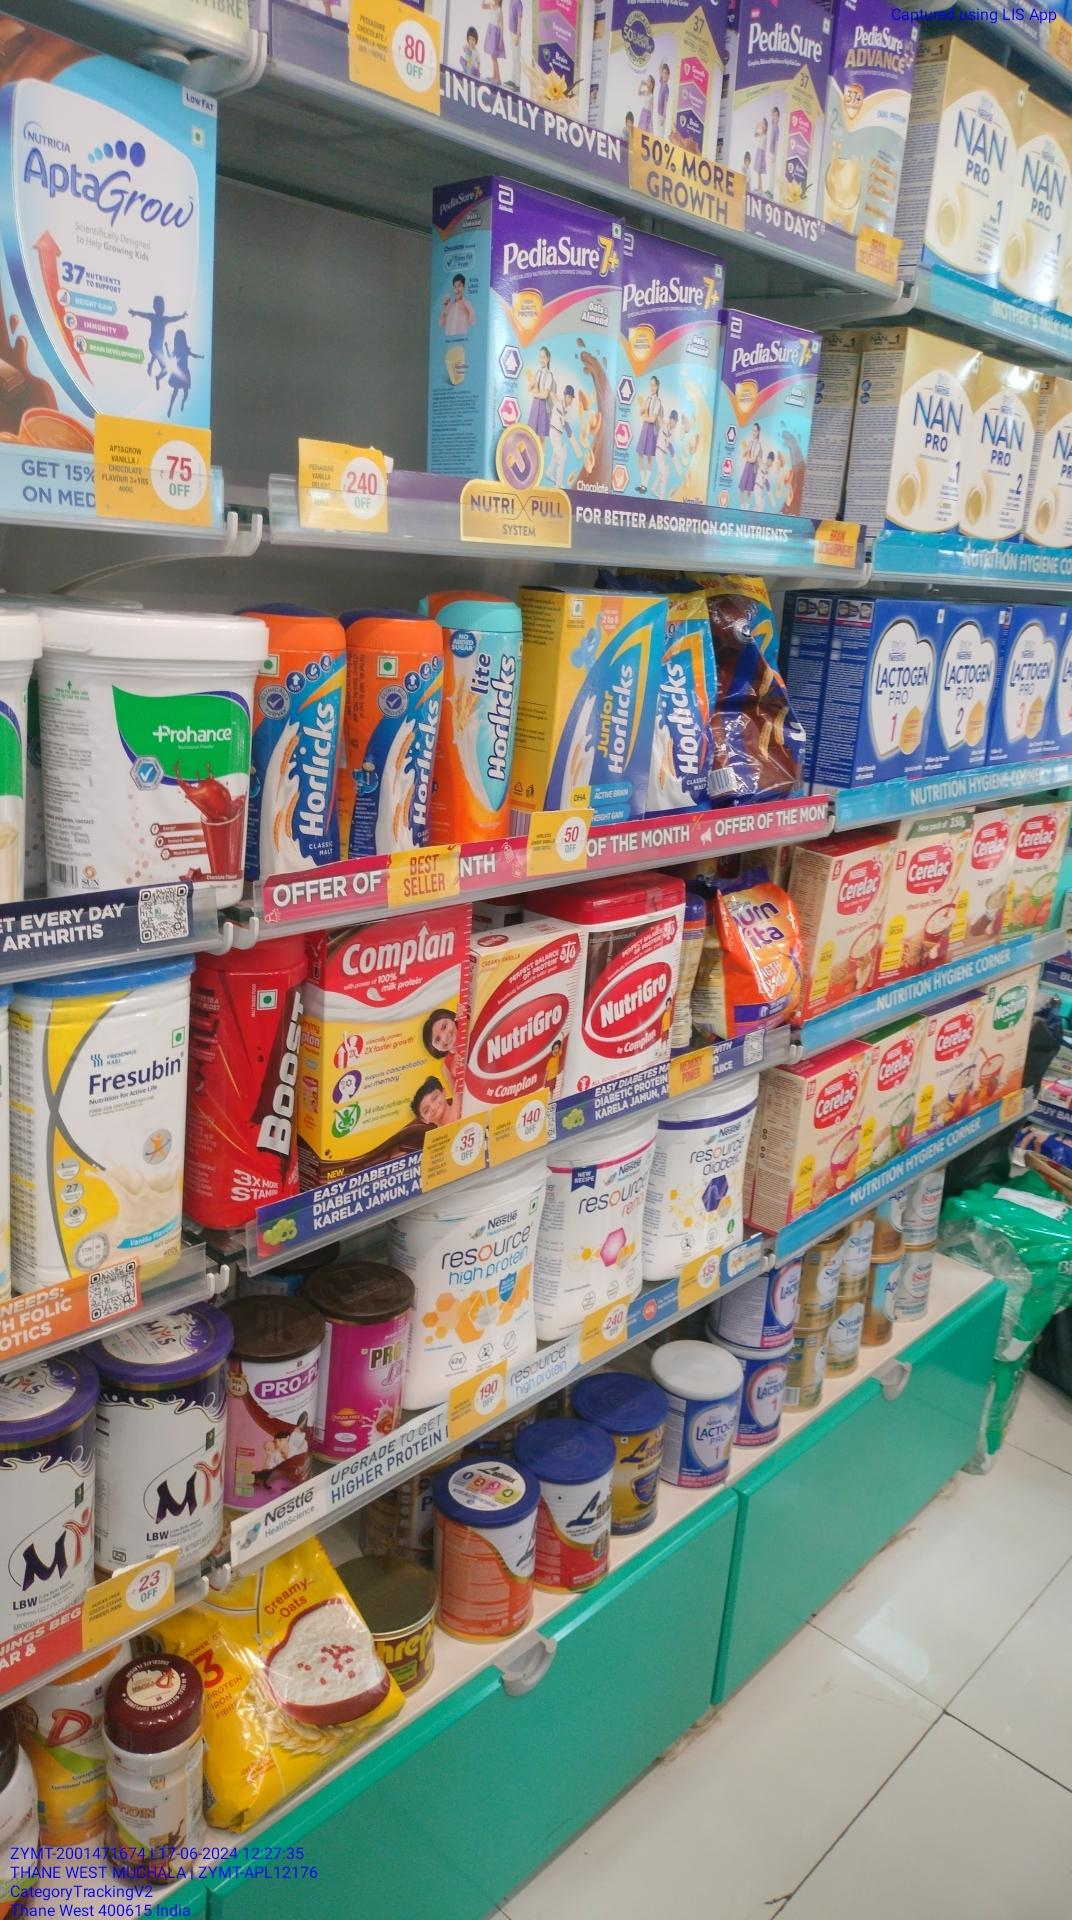HORLICKS_LITE_REGULAR_MALT_500_GM_JAR: (439, 593, 516, 844)
PEDIASURE_7_PLUS_CHOCOLATE_400_G_PACK: (716, 314, 820, 506)
